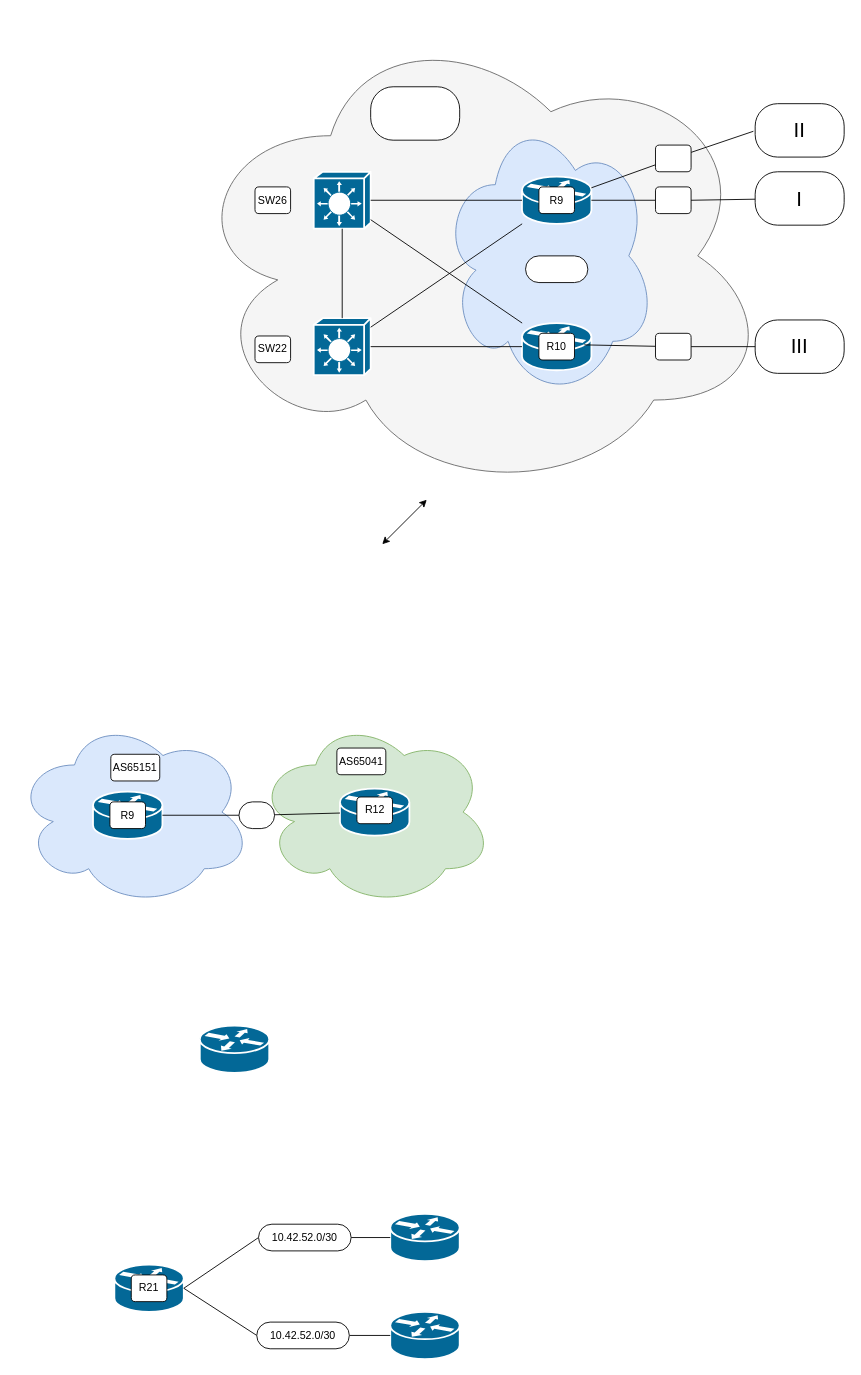
Some shapes in this 861 by 1375 pixel diagram are drawn without their labels. Here are the shapes that lost their labels. From the top down, the box of each, then its label:
(370, 86, 460, 140): OSPF Area 0
(655, 144, 691, 172): ISP1
(655, 186, 691, 214): DC1
(525, 255, 588, 283): iBGP AS65151
(655, 332, 691, 360): ISP2
(238, 801, 275, 829): eBGP
